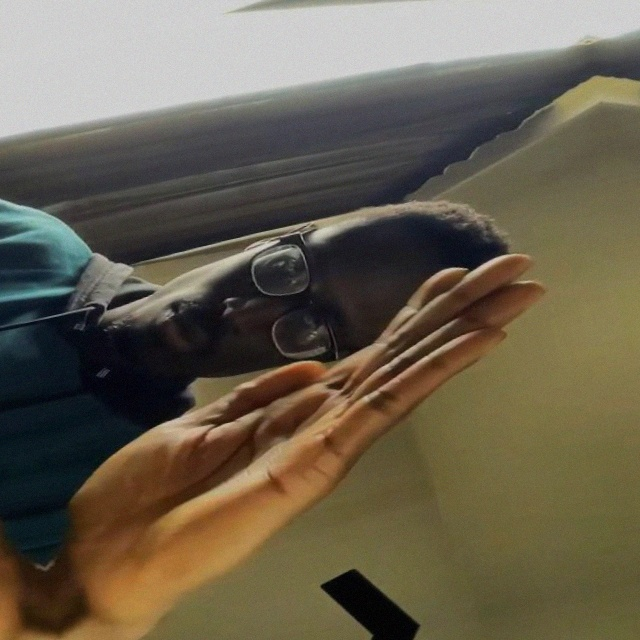Paper: (17, 245, 599, 635)
